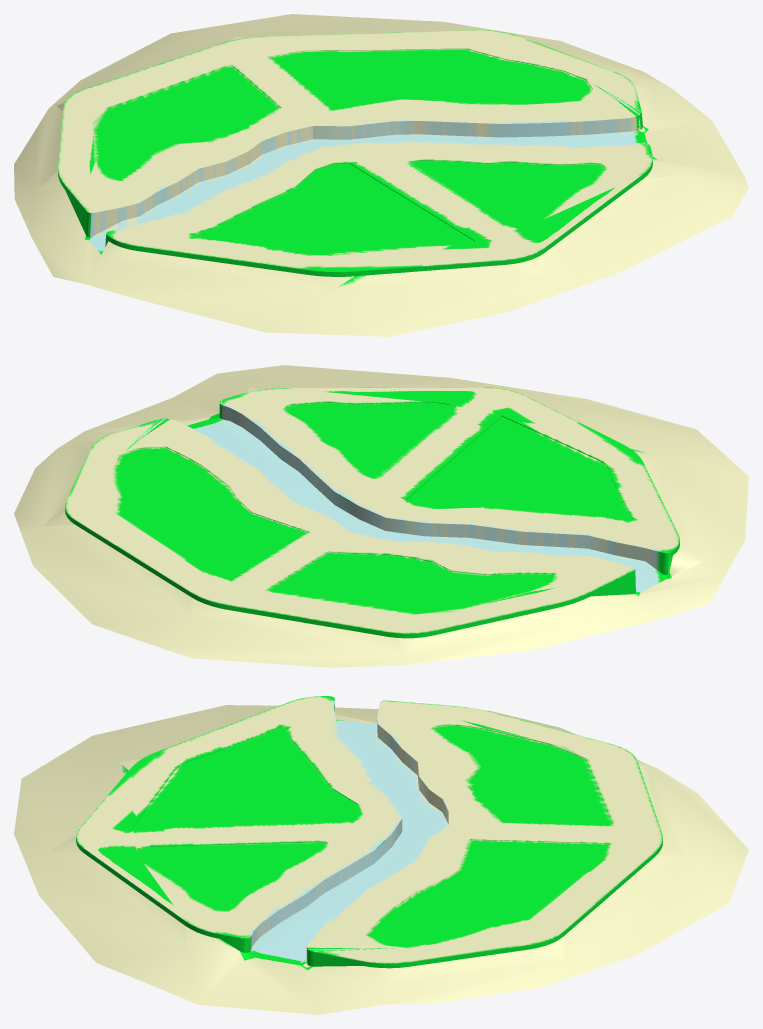
The model's file is IslandwithRiver&Roads.fbx.
3 views of the same model, one above another, from view 1: azimuth 30°, elevation 25°; view 2: azimuth 150°, elevation 25°; view 3: azimuth 270°, elevation 25° (orthographic).
Visible parts, largest first — view 1: Island2; view 2: Island2; view 3: Island2.
Part boxes in pixels (x1=…): Island2: x1=14, y1=14, x2=748, y2=336; Island2: x1=14, y1=365, x2=748, y2=667; Island2: x1=14, y1=696, x2=748, y2=1014.
Bounding box in the file's own units: 11434 × 610 × 11329.
1 material, 1 textured.
